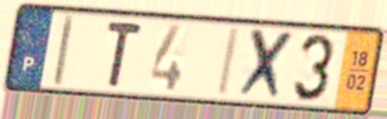3: (290, 31, 339, 105)
4: (148, 22, 184, 95)
I: (214, 25, 243, 99), (50, 13, 77, 89)
T: (104, 18, 146, 90)
X: (234, 26, 298, 104)
